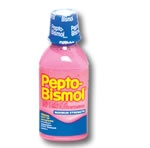grozi_96: (38, 9, 88, 142)
